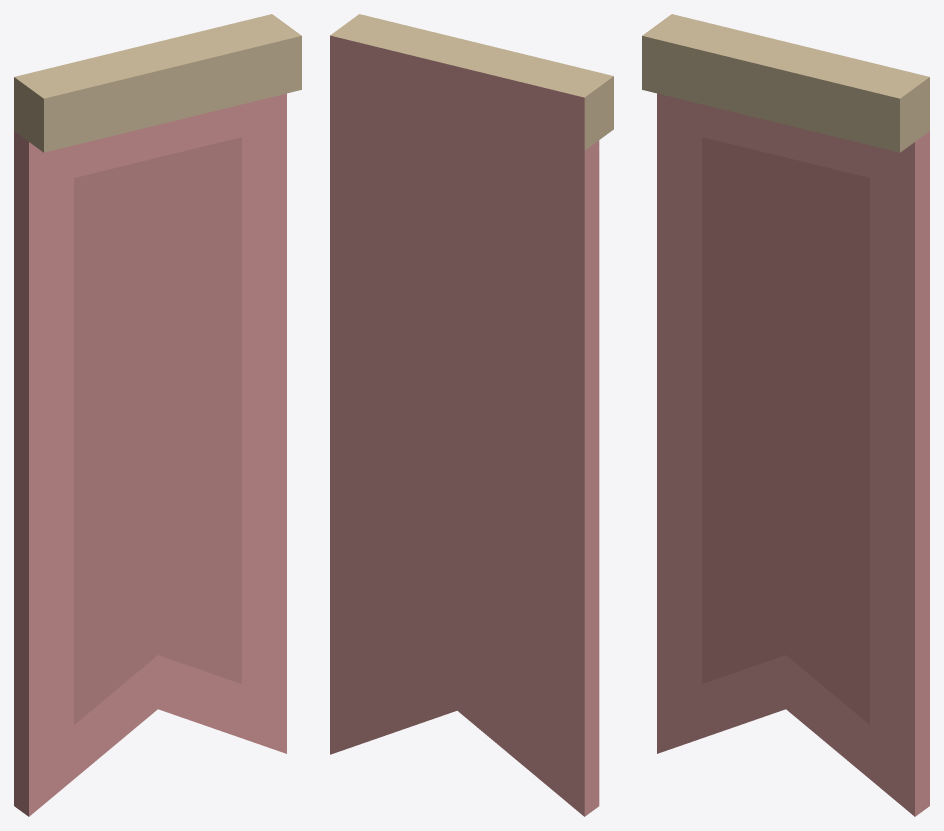
File: Banner_01.glb
3 renders of one model, left to right at view 1: azimuth 30°, elevation 25°; view 2: azimuth 150°, elevation 25°; view 3: azimuth 330°, elevation 25°, orthographic.
Parts seen in each view (by area): view 1: Mesh1 Banner Model; view 2: Mesh1 Banner Model; view 3: Mesh1 Banner Model.
Part boxes in pixels (x1=…): Mesh1 Banner Model: x1=14, y1=14, x2=301, y2=816; Mesh1 Banner Model: x1=330, y1=14, x2=613, y2=816; Mesh1 Banner Model: x1=642, y1=14, x2=929, y2=816.
Bounding box in the file's own units: 1 × 2.7 × 0.2.
